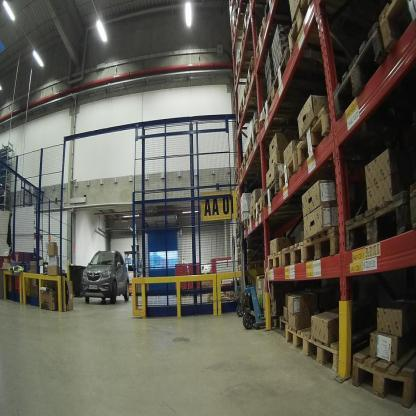pallets: (261, 191, 410, 274), (330, 0, 416, 131), (261, 111, 330, 208), (263, 0, 315, 118), (350, 342, 415, 408), (283, 318, 340, 379), (237, 107, 266, 176), (237, 190, 267, 238)
